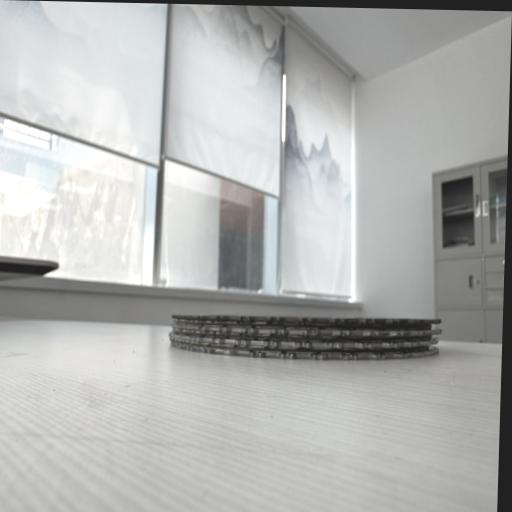black metal plate: (171, 315, 441, 324)
shiney metal plate: (168, 331, 439, 349), (171, 343, 440, 360), (169, 324, 442, 336)
spacer: (172, 329, 432, 343), (171, 340, 429, 354), (173, 318, 432, 331)
